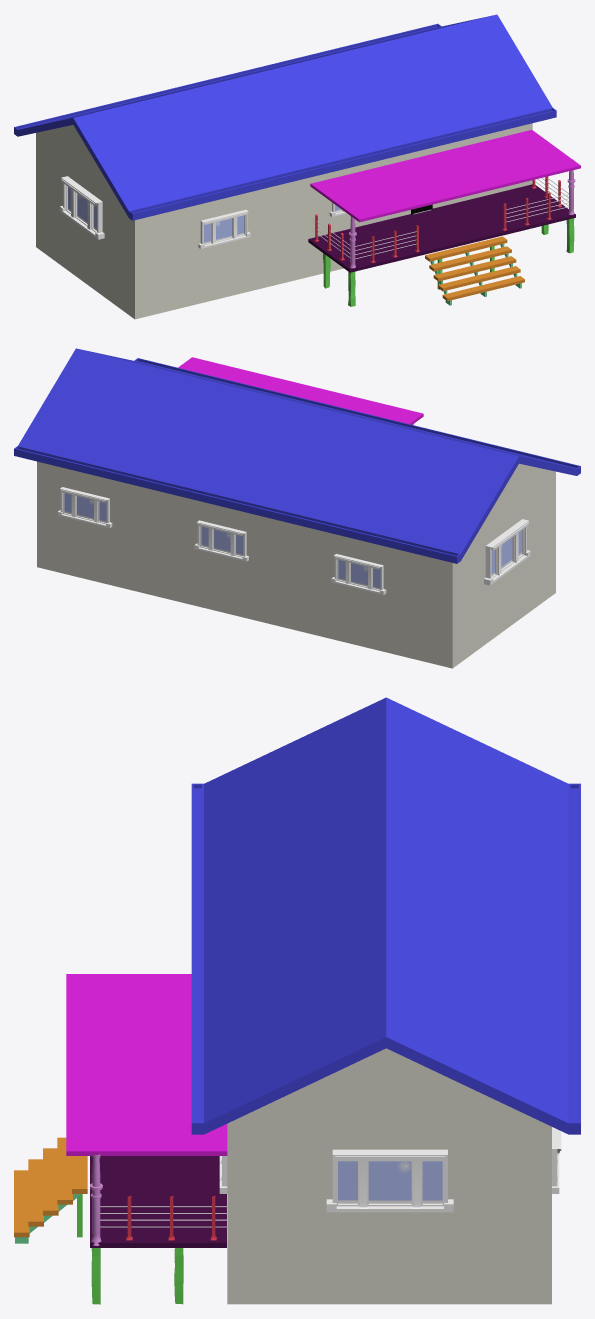
The model's file is maison.fbx.
3 views of the same model, one above another, from view 1: azimuth 30°, elevation 25°; view 2: azimuth 150°, elevation 25°; view 3: azimuth 270°, elevation 25° (orthographic). The views are drawn at different scales.
Parts seen in each view (by area): view 1: Toit, Base, Toi Terasse, Terasse, Escalier, Fenetre, Fenetre.002, Pillier, Barriere.001, Pillier Terasse façade, Pillier Terasse Support, Pillier Terasse coté; view 2: Toit, Base, Toi Terasse, Fenetre.001, Fenetre, Fenetre.002; view 3: Toit, Base, Toi Terasse, Terasse, Fenetre, Escalier, Pillier, Fenetre.001, Barriere, Pillier Terasse Support.
Boxes of the visible parts, <box> form: Toit: <box>14,14,556,220</box>; Base: <box>36,123,532,319</box>; Toi Terasse: <box>310,130,580,222</box>; Terasse: <box>308,184,575,272</box>; Escalier: <box>425,236,524,301</box>; Fenetre: <box>59,176,104,239</box>; Fenetre.002: <box>198,209,250,248</box>; Pillier: <box>323,218,574,306</box>; Barriere.001: <box>355,194,569,259</box>; Pillier Terasse façade: <box>370,192,551,262</box>; Pillier Terasse Support: <box>349,159,575,268</box>; Pillier Terasse coté: <box>314,176,562,260</box>; Toit: <box>14,348,580,563</box>; Base: <box>37,461,555,668</box>; Toi Terasse: <box>178,357,423,424</box>; Fenetre.001: <box>57,487,248,561</box>; Fenetre: <box>484,519,530,585</box>; Fenetre.002: <box>331,554,386,594</box>; Toit: <box>191,697,580,1134</box>; Base: <box>227,1048,551,1304</box>; Toi Terasse: <box>66,974,227,1155</box>; Terasse: <box>90,1156,226,1247</box>; Fenetre: <box>326,1149,453,1212</box>; Escalier: <box>14,1137,87,1237</box>; Pillier: <box>91,1248,183,1304</box>; Fenetre.001: <box>219,1127,561,1193</box>; Barriere: <box>100,1206,227,1227</box>; Pillier Terasse Support: <box>90,1154,102,1245</box>.
Bounding box in the file's own units: 19.4 × 7.41 × 13.69.
